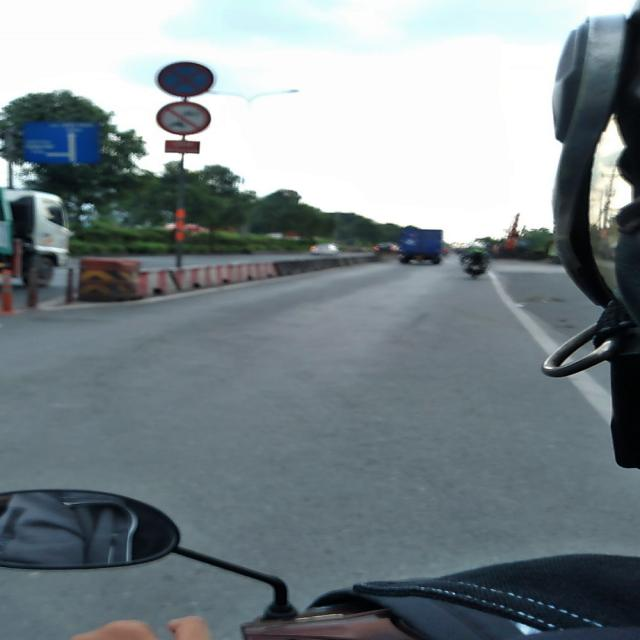Cam con lai: (156, 102, 212, 136)
Cam dung va do: (157, 62, 214, 96)
